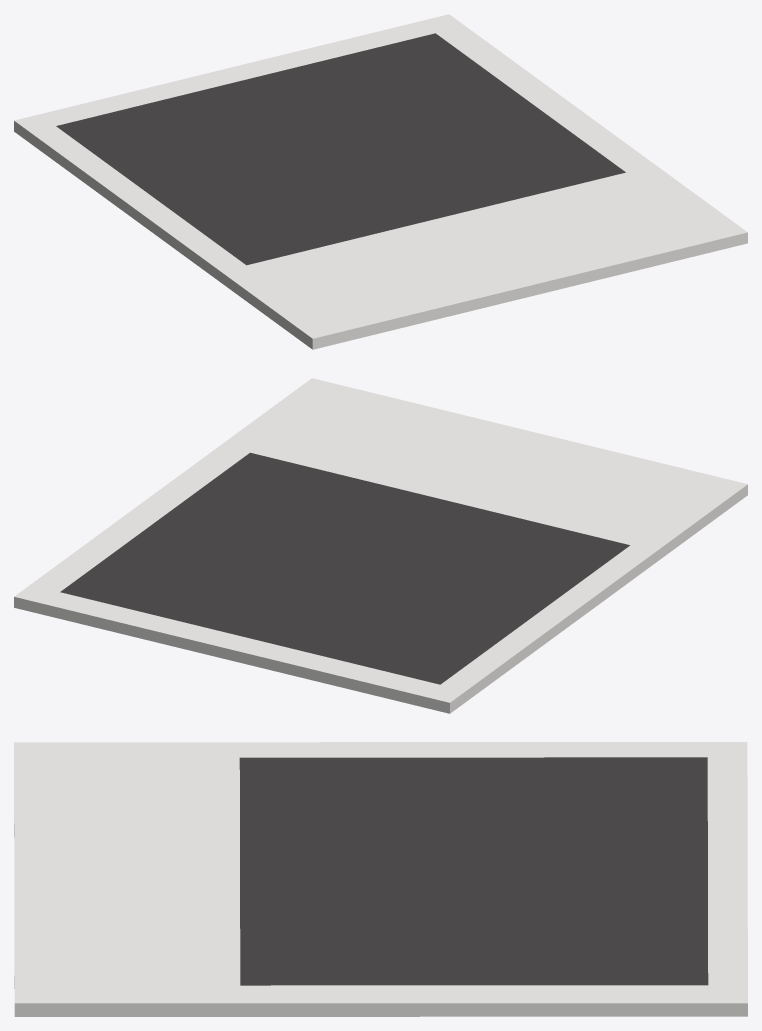
File: Photo_3.glb
3 views of the same model, one above another, from view 1: azimuth 30°, elevation 25°; view 2: azimuth 150°, elevation 25°; view 3: azimuth 270°, elevation 25° (orthographic). The views are drawn at different scales.
Visible parts, largest first — view 1: Photo_3; view 2: Photo_3; view 3: Photo_3.
Part boxes in pixels (left/top/right/bottom): Photo_3: left=14, top=14, right=747, bottom=349; Photo_3: left=14, top=378, right=747, bottom=713; Photo_3: left=14, top=742, right=747, bottom=1016.
Size of the model in its own units: 0.1389 by 0.00335 by 0.1648.
1 material, 1 textured.
